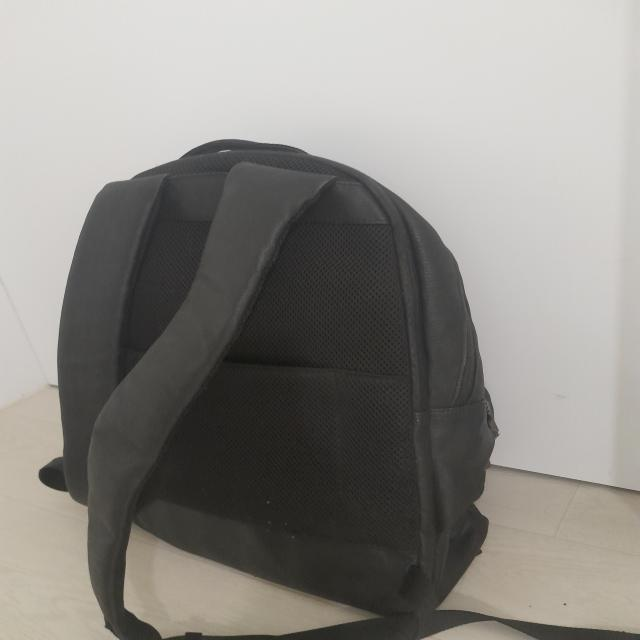backpack: (40, 139, 640, 640)
